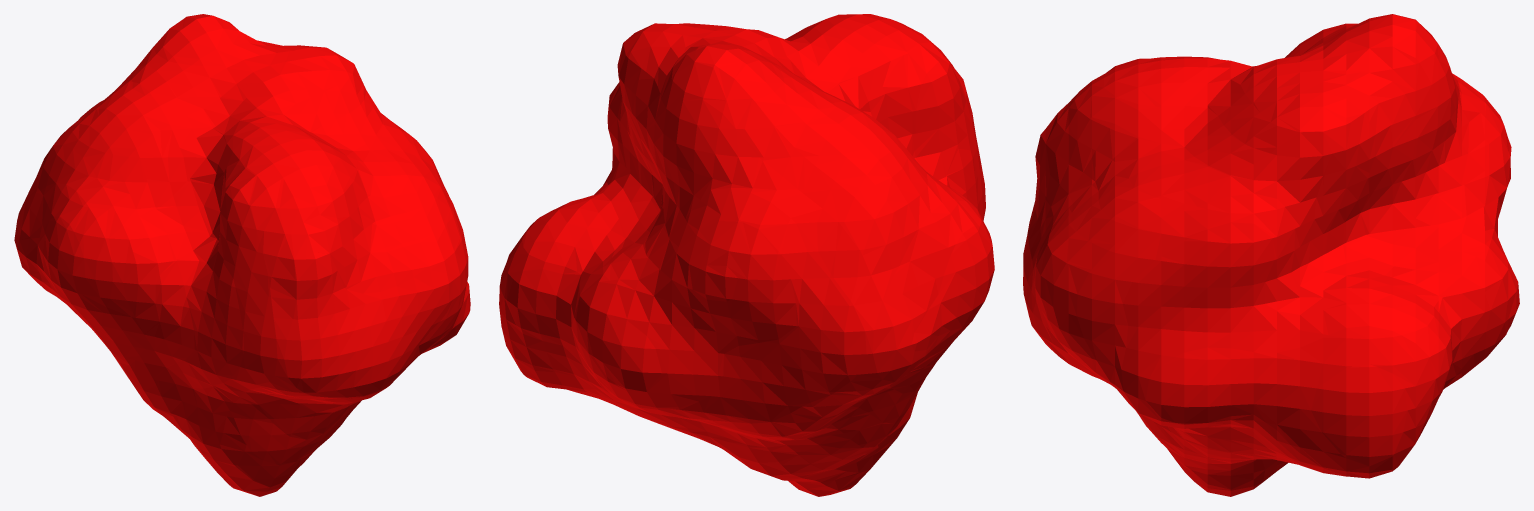
File: gatA_coarse.dae
3 renders of one model, left to right at view 1: azimuth 30°, elevation 25°; view 2: azimuth 150°, elevation 25°; view 3: azimuth 270°, elevation 25°, orthographic. The views are drawn at different scales.
Visible parts, largest first — view 1: gatA; view 2: gatA; view 3: gatA.
Part boxes in pixels (bbox=[...]): gatA: bbox=[14, 14, 470, 496]; gatA: bbox=[499, 14, 994, 496]; gatA: bbox=[1023, 14, 1519, 496].
Size of the model in its own units: 41.23 by 44.26 by 41.2.
